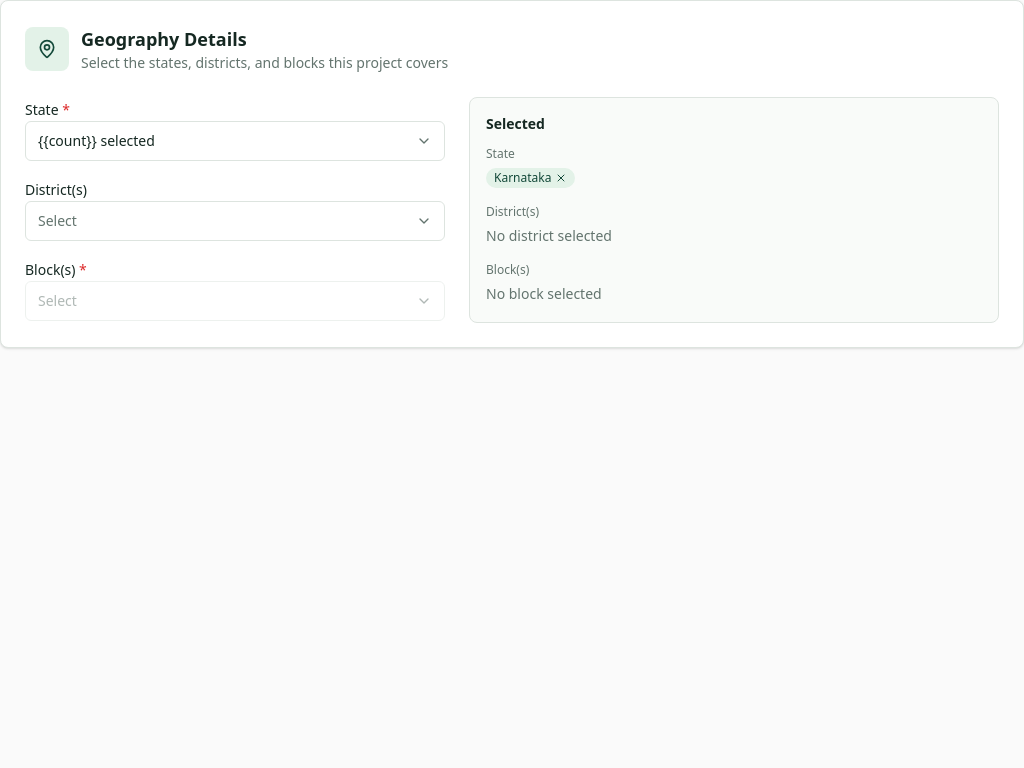
GeographyDetailsStep › narrows district options to the selected state's children
The width and height of the screenshot is (1024, 768).
Click the button named "District(s)" at x=57, y=220, box left=25, top=201, right=445, bottom=241
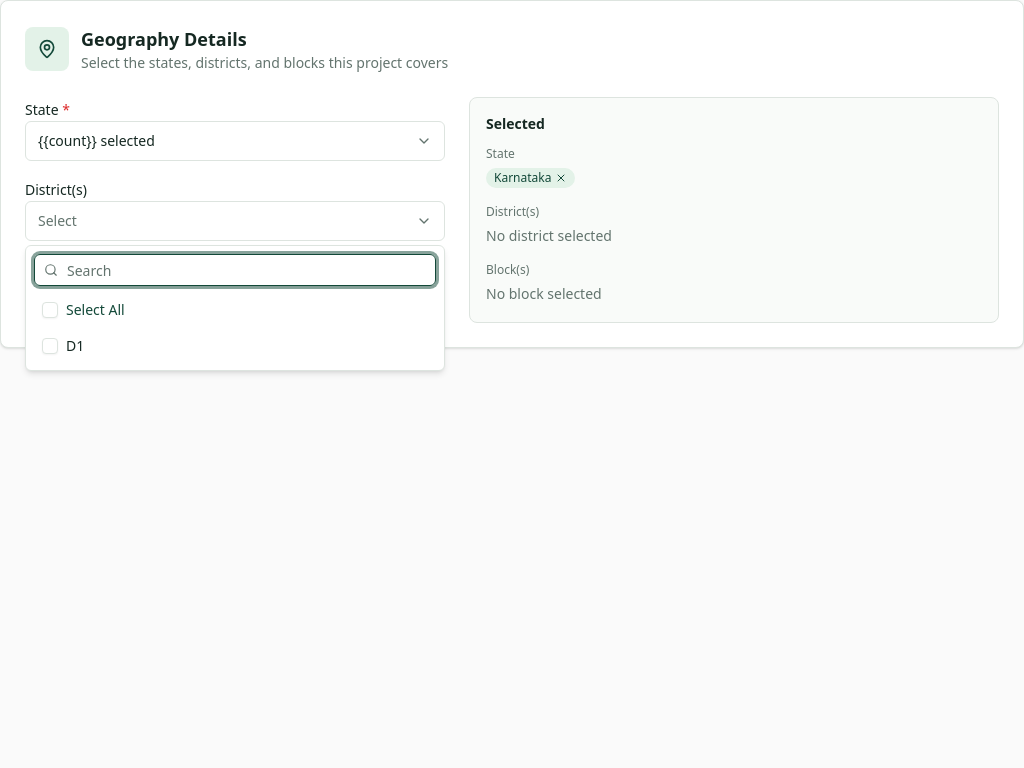
expect the text "D1" is shown: met, box left=66, top=336, right=84, bottom=356
